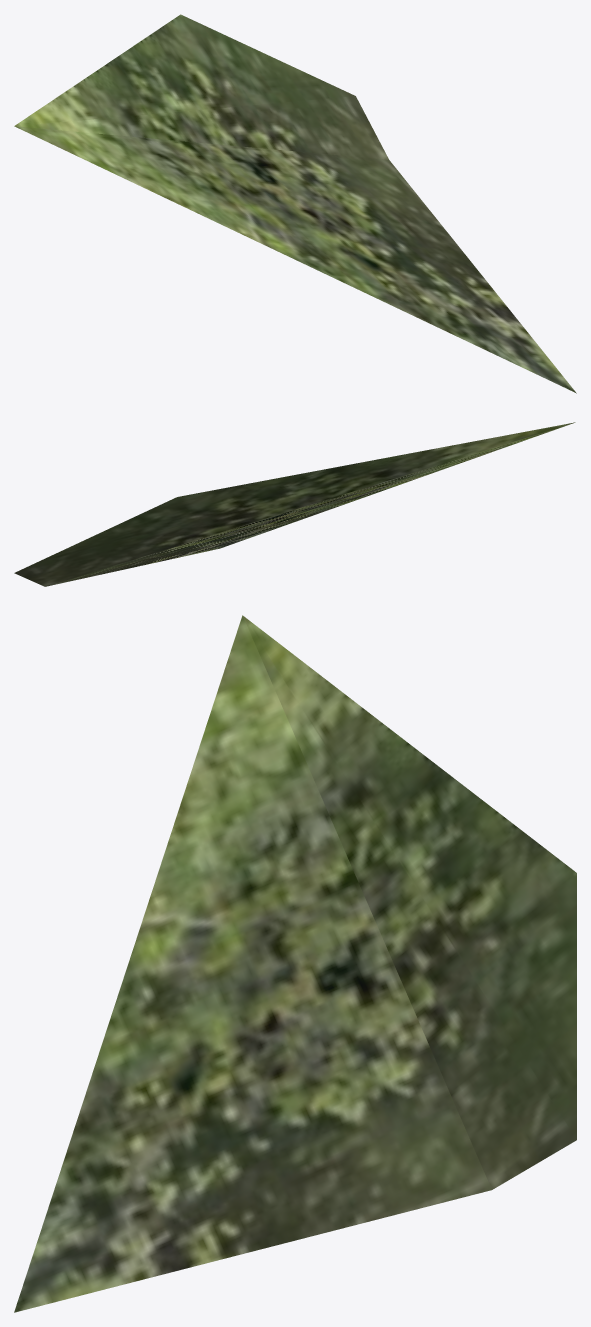
The picture shows the model from 3 angles, top to bottom: view 1: azimuth 30°, elevation 25°; view 2: azimuth 150°, elevation 25°; view 3: azimuth 270°, elevation 25°; orthographic projection. The views are drawn at different scales.
Bounding box in the file's own units: 2.04 × 1.31 × 1.65.
Materials: 1 (1 with a texture image).
